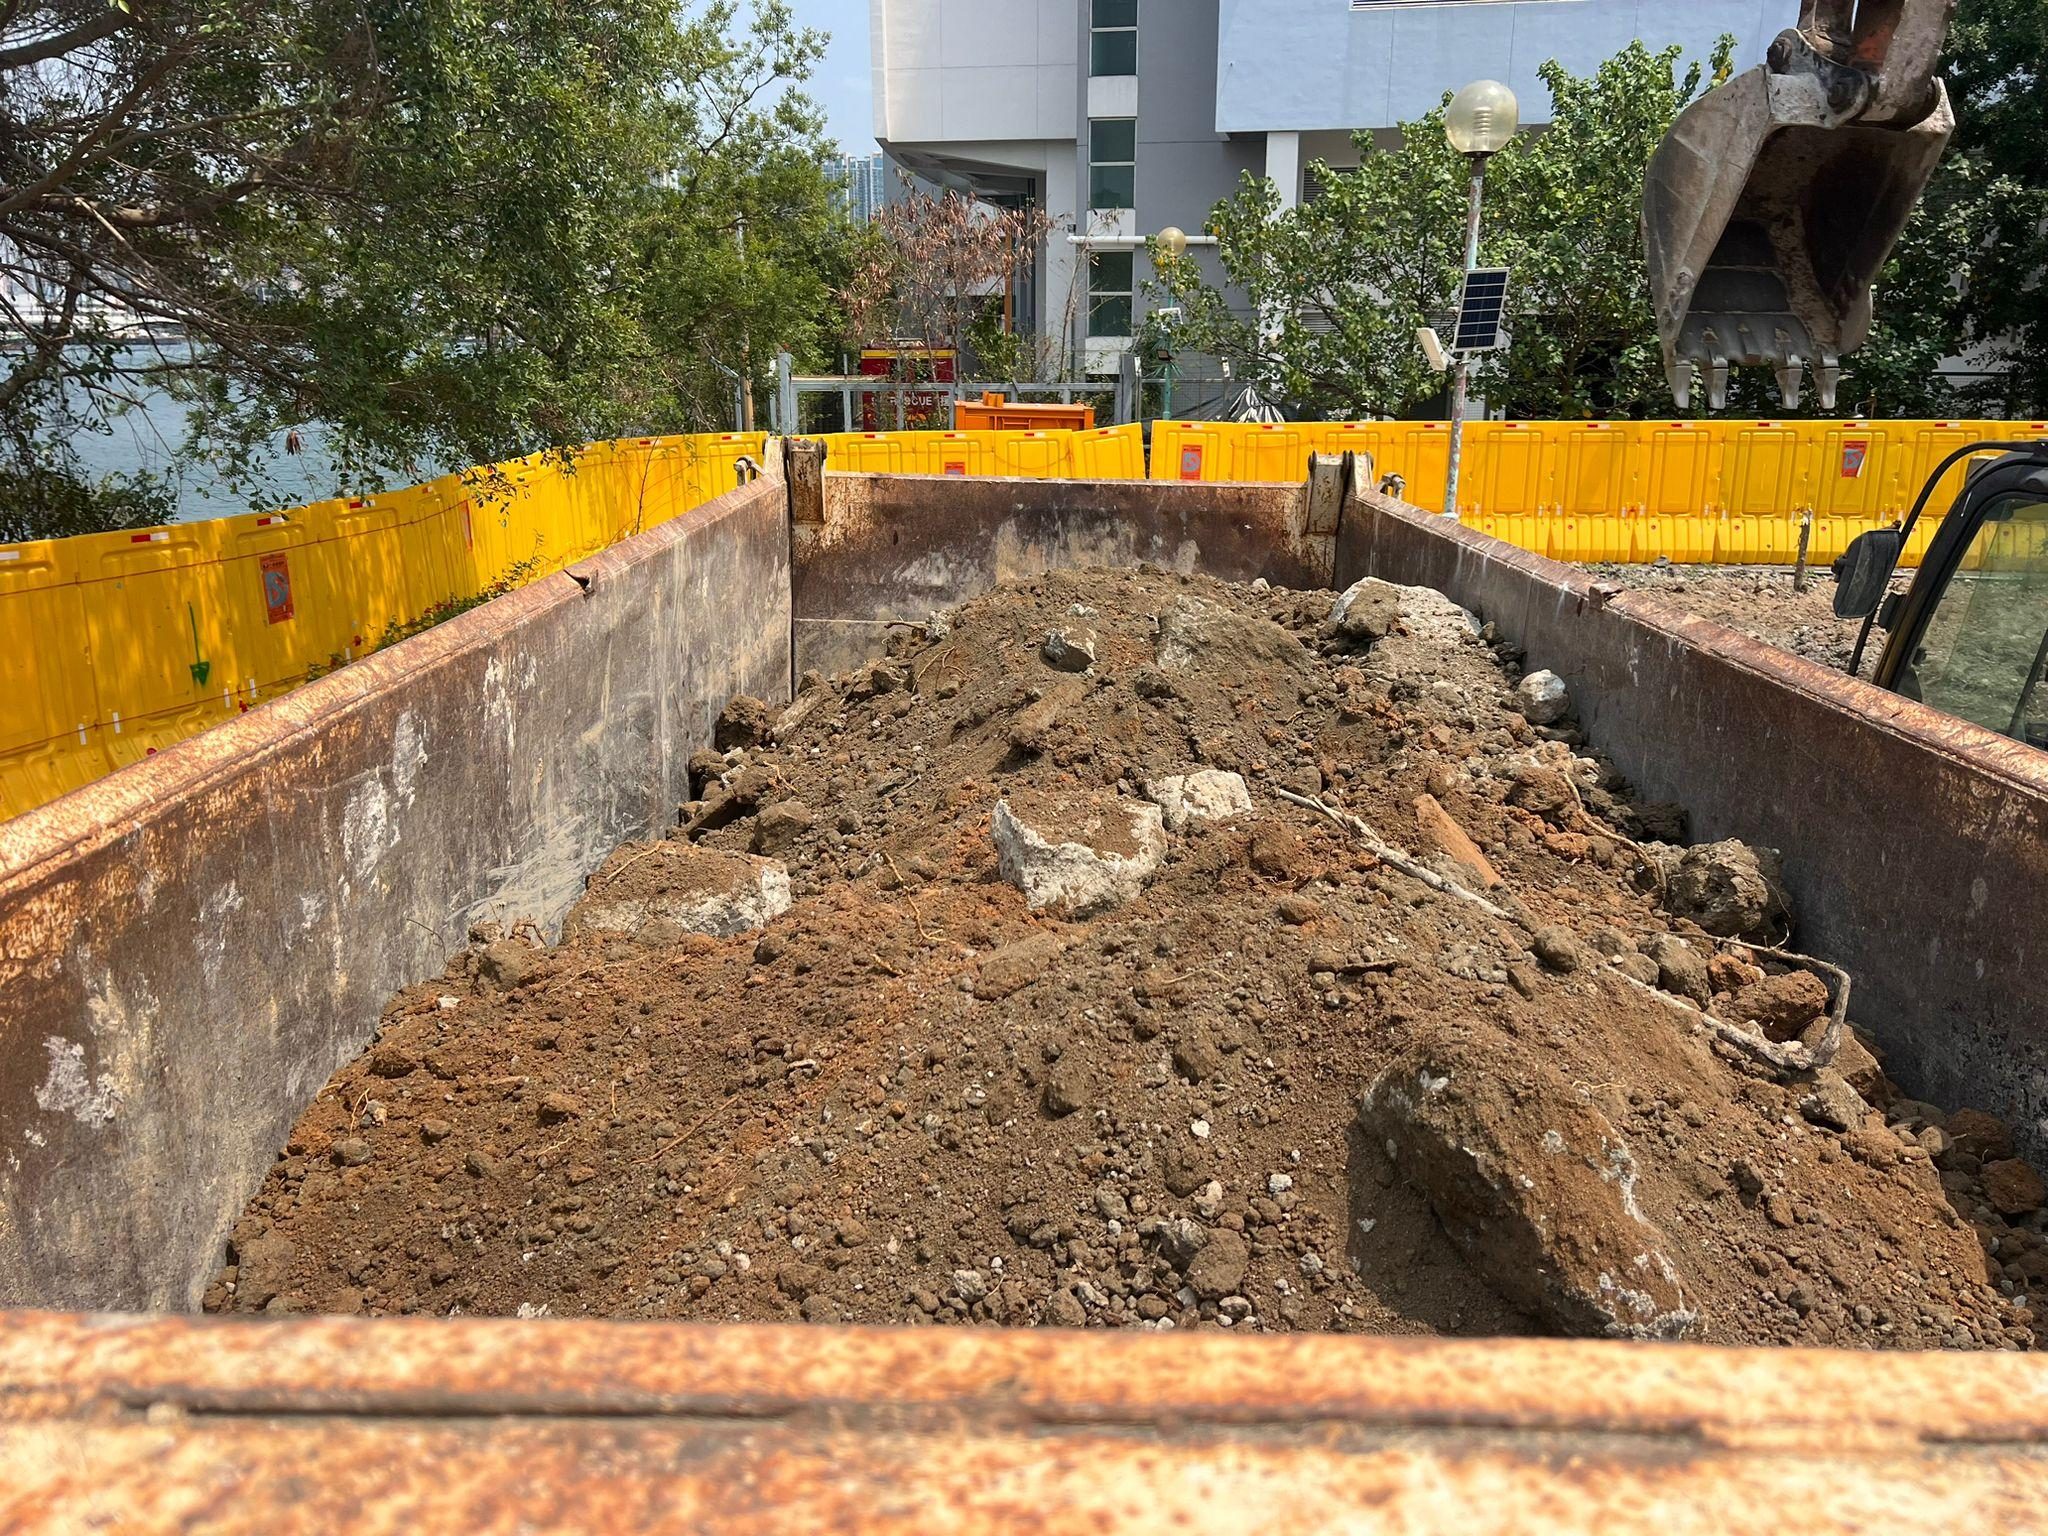wet: (213, 586, 2045, 1350)
